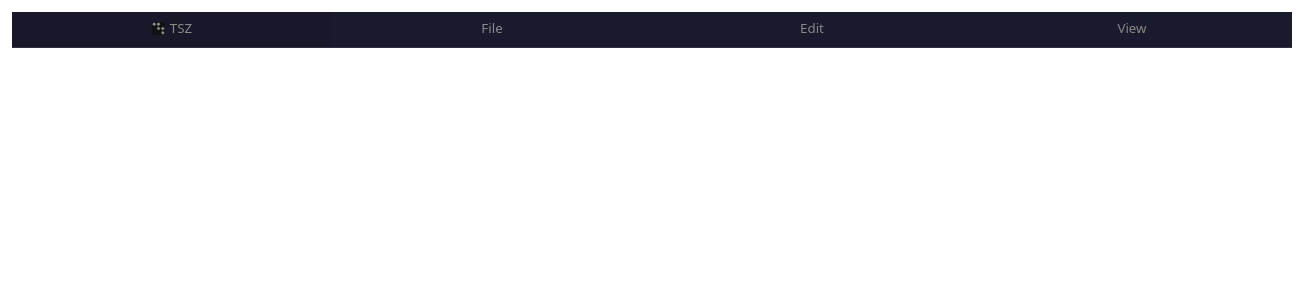
it: clicking File tab shows File menu items
Step 1. Click the button "File" → point(492, 30), box [332, 12, 652, 47]
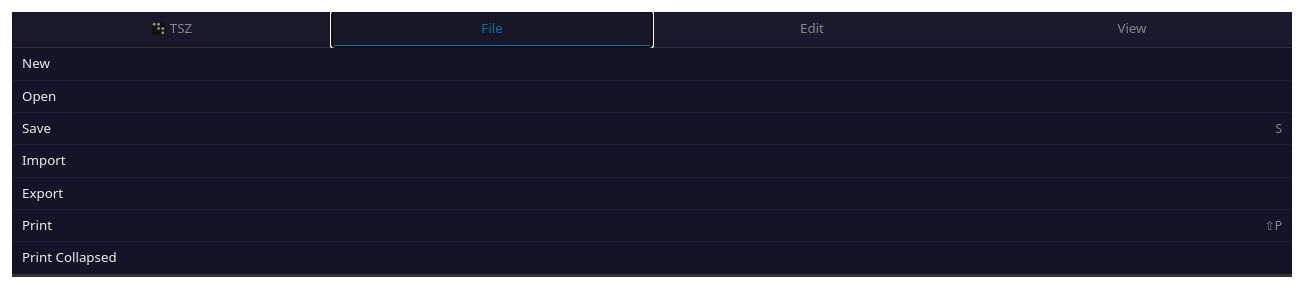
Now the text "New" is shown, box [22, 54, 50, 72]
Now the text "Open" is shown, box [22, 87, 56, 105]
Now the text "Import" is shown, box [22, 151, 66, 169]
